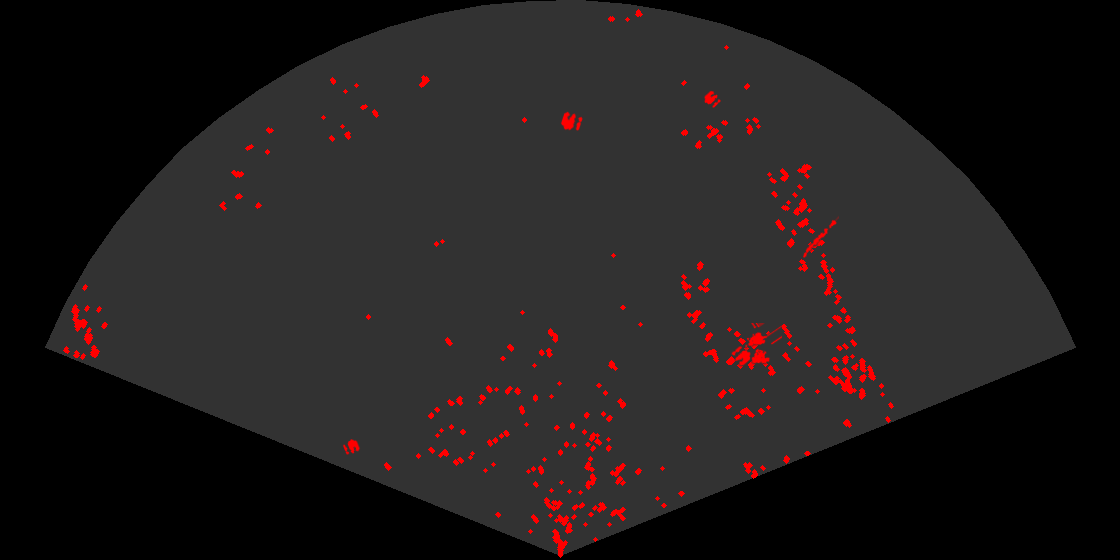ball: (559, 110, 584, 132), (730, 345, 752, 367), (703, 89, 722, 110), (341, 438, 362, 456)
cage: (743, 323, 782, 365)
chain: (801, 214, 839, 259)
